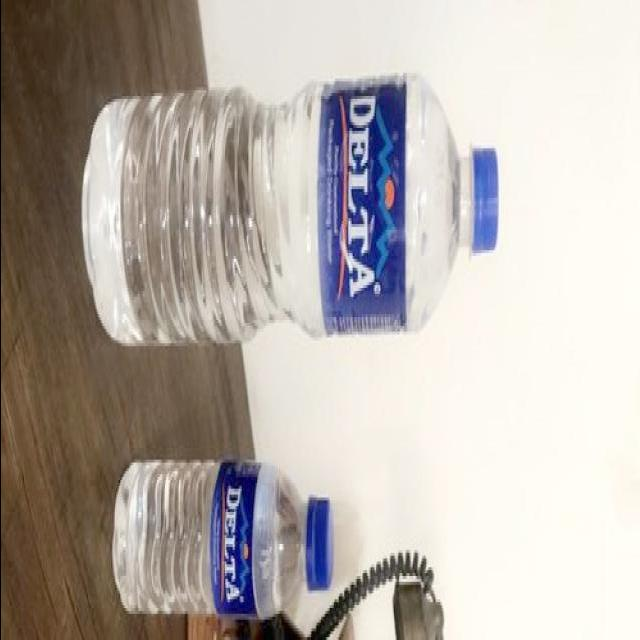cap: (471, 144, 499, 252), (304, 492, 330, 592)
label: (317, 74, 405, 342), (212, 461, 258, 618)
not-crumbled: (84, 78, 511, 352), (110, 452, 344, 620)
